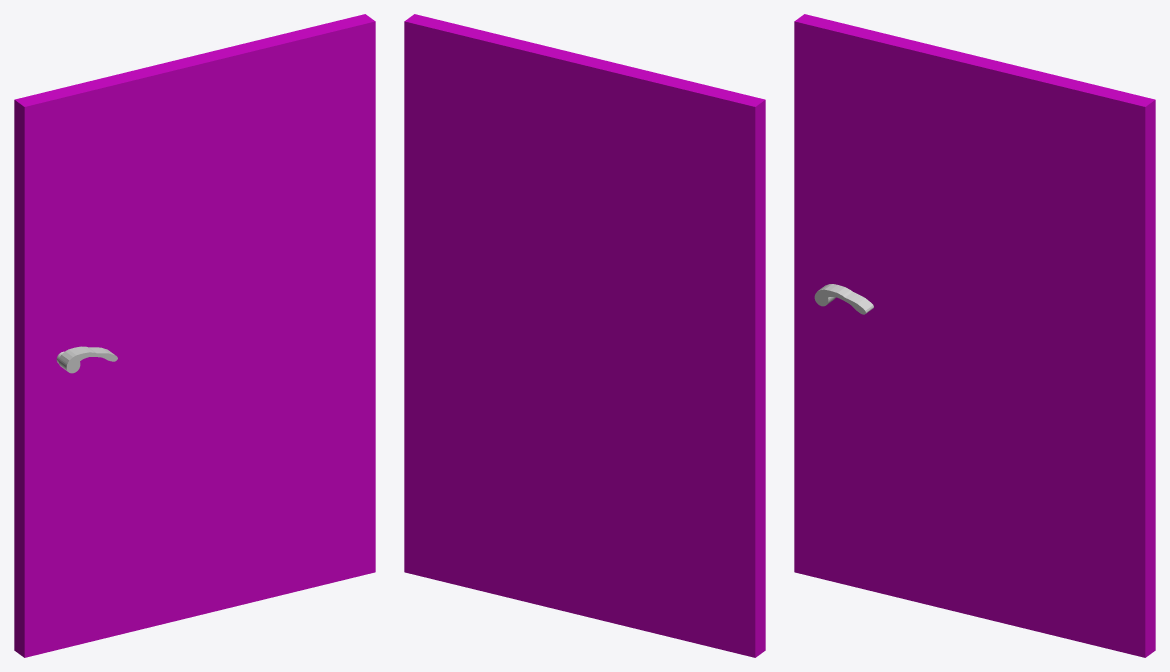
Rendered from Door_worp.fbx.
The picture shows the model from 3 angles, left to right: view 1: azimuth 30°, elevation 25°; view 2: azimuth 150°, elevation 25°; view 3: azimuth 330°, elevation 25°; orthographic projection.
Visible parts, largest first — view 1: 立方体, 円柱.001; view 2: 立方体; view 3: 立方体, 円柱.001.
Part boxes in pixels (x1=…): 立方体: x1=14, y1=14, x2=375, y2=657; 円柱.001: x1=58, y1=346, x2=117, y2=373; 立方体: x1=404, y1=14, x2=765, y2=657; 立方体: x1=794, y1=14, x2=1155, y2=657; 円柱.001: x1=814, y1=284, x2=873, y2=314.
Bounding box in the file's own units: 200 × 300 × 20.78.
